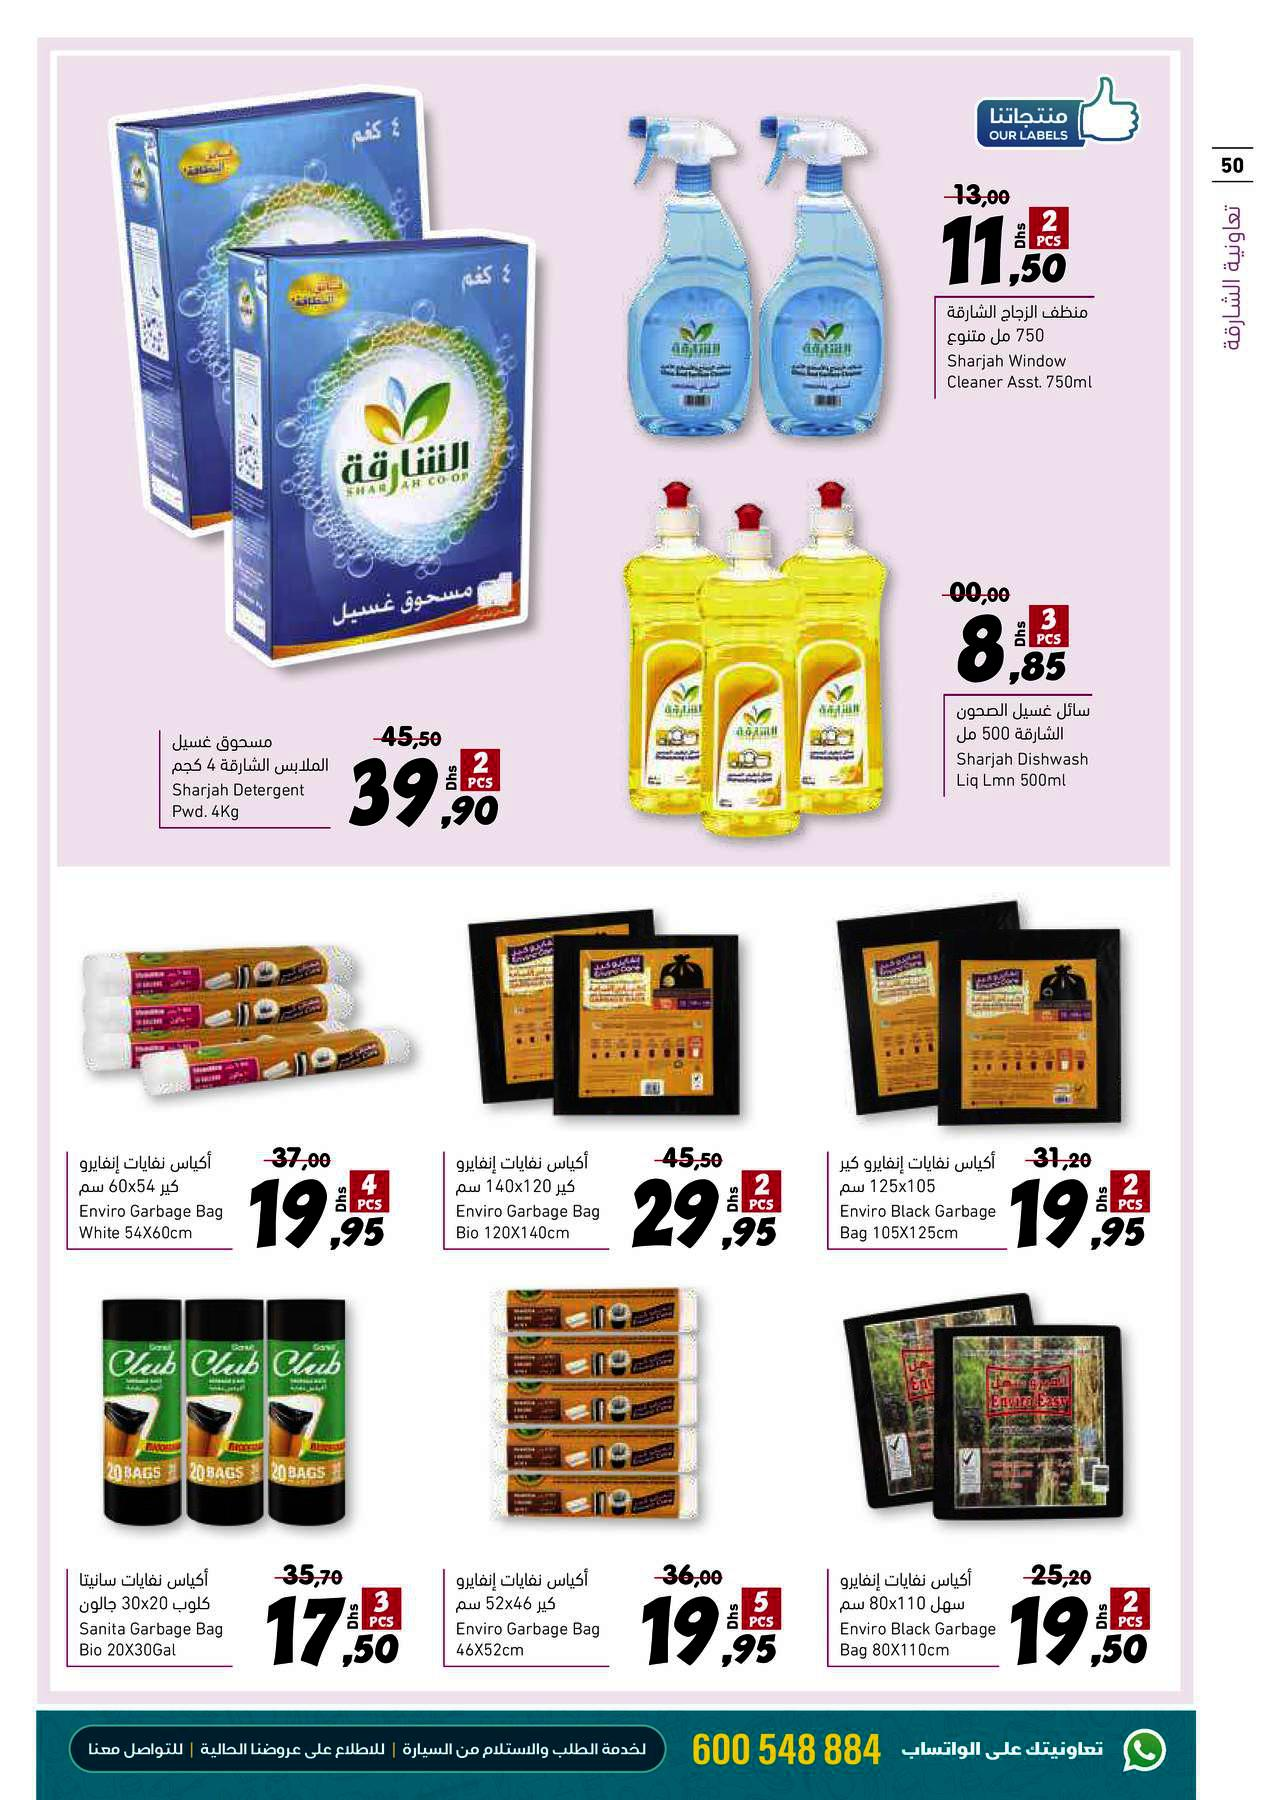text: (164, 724, 340, 779), (69, 1143, 240, 1200), (937, 347, 1106, 404), (74, 1564, 241, 1620), (449, 1144, 608, 1202), (831, 1559, 985, 1618), (446, 1564, 606, 1621), (74, 1195, 242, 1248), (832, 1197, 1004, 1248), (940, 297, 1097, 353), (834, 1613, 996, 1664), (835, 1146, 1000, 1195), (951, 748, 1106, 799), (448, 1198, 608, 1246), (452, 1618, 621, 1664), (165, 779, 328, 826), (952, 698, 1099, 746)
